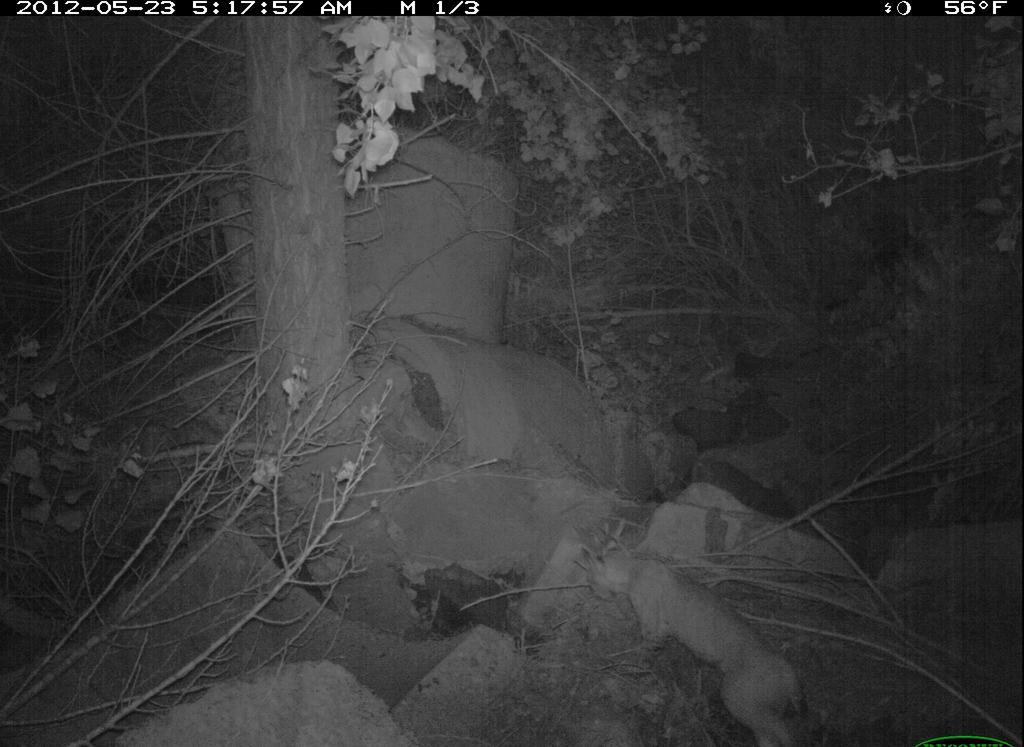bobcat: (571, 545, 816, 747)
